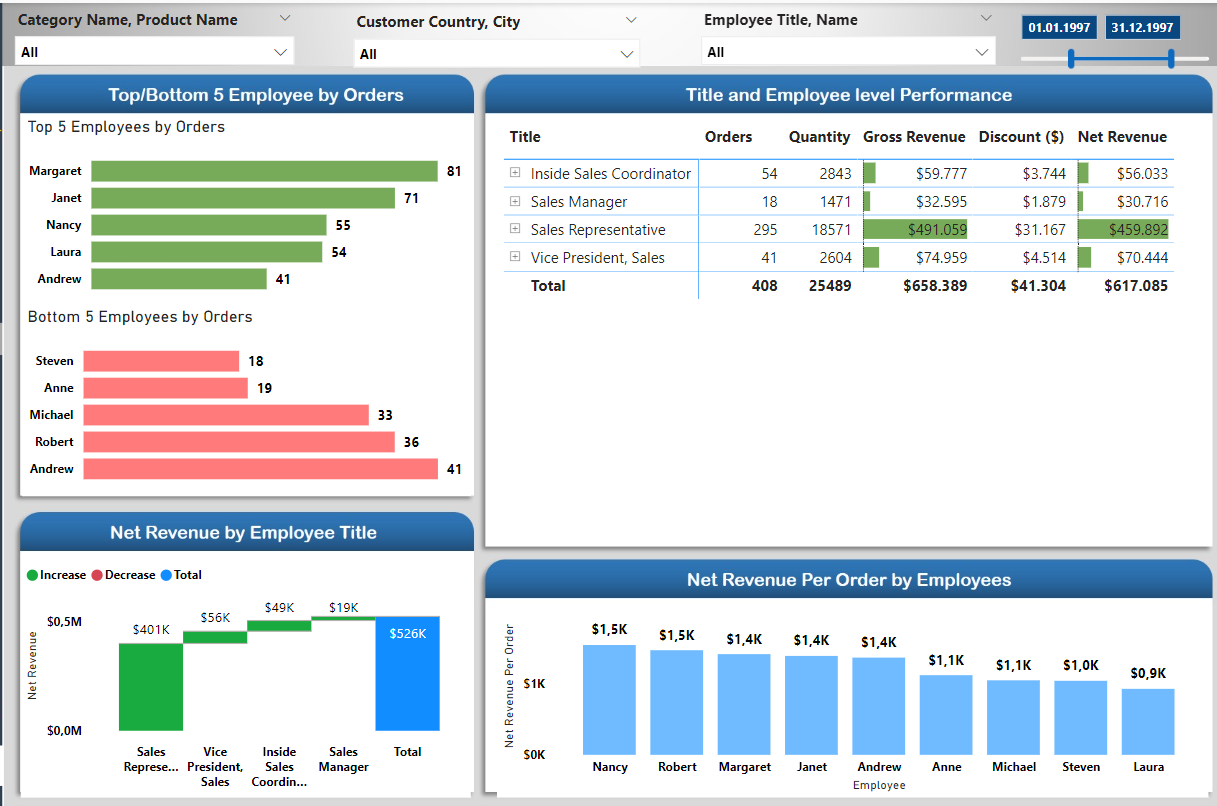

Layout of this report page (visuals, bound fields, positions):
{"tool":"powerbi","page":{"name":"Employees","canvas":[1280,720],"ordinal":3},"visuals":[{"type":"pivotTable","fields":{"Rows":["Order_Details.Title","Order_Details.FirstName"],"Values":["Order_Details.Total Orders","Order_Details.Quantity","Order_Details.Gross Revenue","Order_Details.Discount ($)","Order_Details.Net Revenue"]},"box":[633,101.7,633,380.5],"z":0},{"type":"columnChart","fields":{"Category":["Order_Details.FirstName"],"Y":["Order_Details.Average Orders per day"]},"box":[632.1,532.9,633.5,174.3],"z":1000},{"type":"clusteredBarChart","title":"Top 5 Employees by Orders","fields":{"Category":["Order_Details.FirstName"],"Y":["Order_Details.Orders"]},"box":[209.5,100.8,400.3,169.1],"z":2000},{"type":"clusteredBarChart","title":"Bottom 5 Employees by Orders","fields":{"Category":["Order_Details.FirstName"],"Y":["Order_Details.Orders"]},"box":[209.5,270,400.3,169.1],"z":3000},{"type":"waterfallChart","fields":{"Category":["Order_Details.Title"],"Y":["Order_Details.Net Revenue"]},"box":[208.3,490.4,401.1,216.9],"z":4000},{"type":"actionButton","box":[0,142,192.9,40.3],"z":5000},{"type":"actionButton","box":[0,141.7,192.8,41.1],"z":6000},{"type":"actionButton","box":[0,212.6,192.8,39.7],"z":7000},{"type":"actionButton","box":[9.9,610.9,42.5,39.7],"z":8000},{"type":"actionButton","box":[75.1,610.9,42.5,39.7],"z":9000},{"type":"actionButton","box":[144.6,609.4,42.5,39.7],"z":10000},{"type":"slicer","fields":{"Values":["Order_Details.OrderDate"]},"box":[1086.5,0,192.9,68.6],"z":11000},{"type":"slicer","fields":{"Values":["Products.CategoryName","Products.ProductName"]},"box":[192.2,0,269,68.5],"z":12000},{"type":"slicer","fields":{"Values":["Order_Details.Country","Order_Details.City"]},"box":[494.6,1.7,275.7,68.5],"z":13000},{"type":"slicer","fields":{"Values":["Order_Details.Title","Order_Details.FirstName"]},"box":[803.8,0,282.4,68.5],"z":14000},{"type":"image","box":[47.6,0,96.7,69.3],"z":15000},{"type":"textbox","box":[0,661.1,193,36.2],"z":16000}]}

Visuals, with their boxes on the page's 1280x720 design canvas (x1, y1, x2, y2). These are canvas units, not pixel positions in the 1217x806 screenshot, which may show the page scaled, cropped or inside an application window:
pivotTable - Order_Details.Title x Order_Details.FirstName: bbox=(633, 102, 1266, 482)
columnChart - Order_Details.FirstName x Order_Details.Average Orders per day: bbox=(632, 533, 1266, 707)
"Top 5 Employees by Orders" clusteredBarChart: bbox=(210, 101, 610, 270)
"Bottom 5 Employees by Orders" clusteredBarChart: bbox=(210, 270, 610, 439)
waterfallChart - Order_Details.Title x Order_Details.Net Revenue: bbox=(208, 490, 609, 707)
actionButton: bbox=(0, 142, 193, 182)
actionButton: bbox=(0, 142, 193, 183)
actionButton: bbox=(0, 213, 193, 252)
actionButton: bbox=(10, 611, 52, 651)
actionButton: bbox=(75, 611, 118, 651)
actionButton: bbox=(145, 609, 187, 649)
slicer - Order_Details.OrderDate: bbox=(1086, 0, 1279, 69)
slicer - Products.CategoryName x Products.ProductName: bbox=(192, 0, 461, 68)
slicer - Order_Details.Country x Order_Details.City: bbox=(495, 2, 770, 70)
slicer - Order_Details.Title x Order_Details.FirstName: bbox=(804, 0, 1086, 68)
image: bbox=(48, 0, 144, 69)
textbox: bbox=(0, 661, 193, 697)
